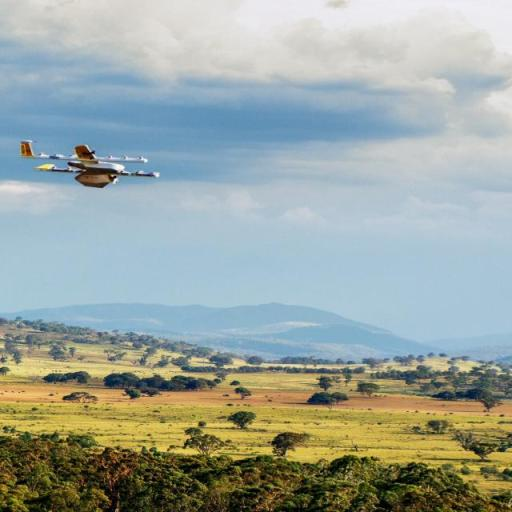uav: (15, 137, 163, 193)
